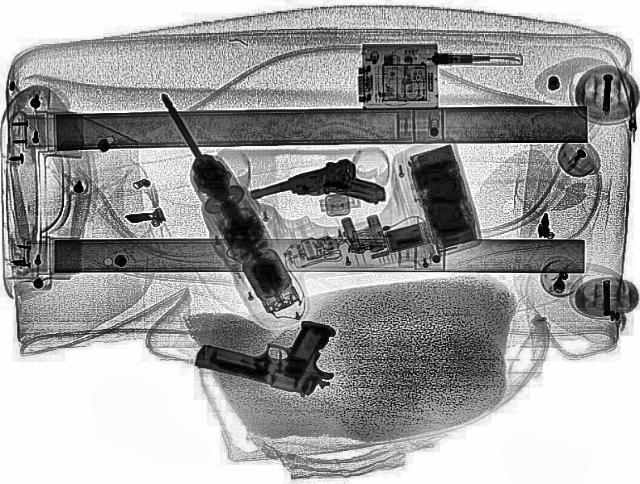Gun: (190, 298, 356, 400), (245, 152, 392, 236)
